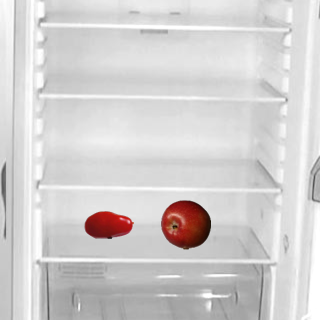Apple Braeburn: (160, 199, 210, 249)
Tomato 2: (83, 199, 133, 249)
